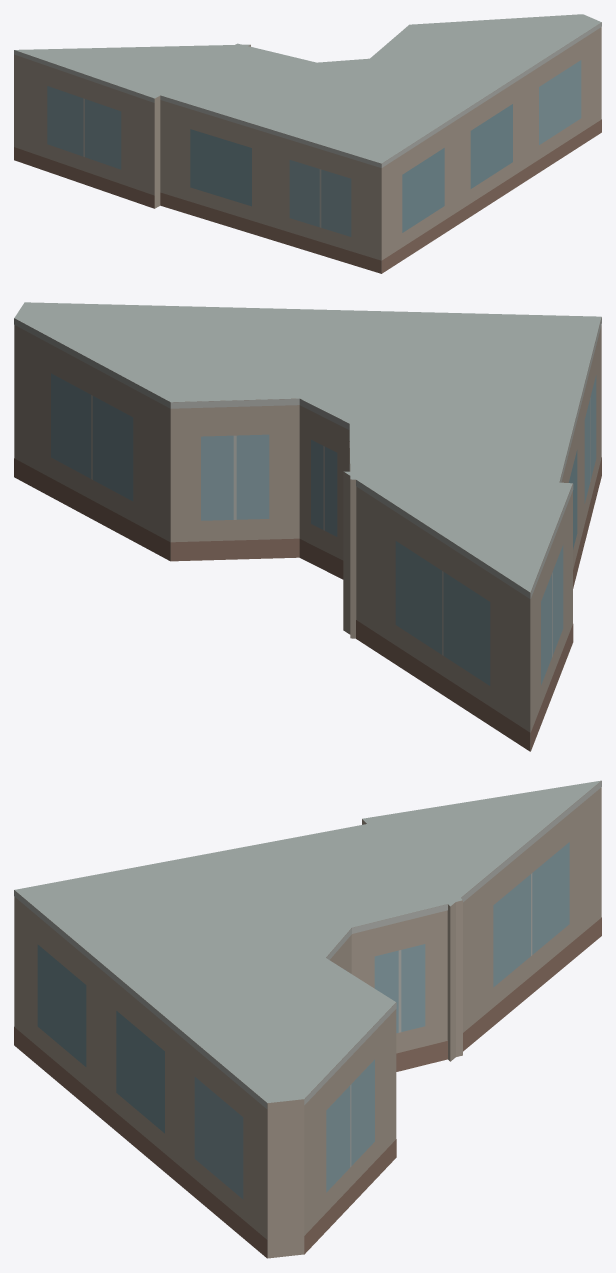
Rendered from survey-upis-32529625.glb.
The picture shows the model from 3 angles, top to bottom: view 1: azimuth 30°, elevation 25°; view 2: azimuth 150°, elevation 25°; view 3: azimuth 270°, elevation 25°; orthographic projection. The views are drawn at different scales.
Visible parts, largest first — view 1: survey-upis-32529625.tmp; view 2: survey-upis-32529625.tmp; view 3: survey-upis-32529625.tmp.
Part boxes in pixels (left/top/right/bottom): survey-upis-32529625.tmp: left=14, top=14, right=601, bottom=273; survey-upis-32529625.tmp: left=14, top=302, right=601, bottom=751; survey-upis-32529625.tmp: left=14, top=780, right=601, bottom=1258.
Bounding box in the file's own units: 13.6 × 3.05 × 10.47.
